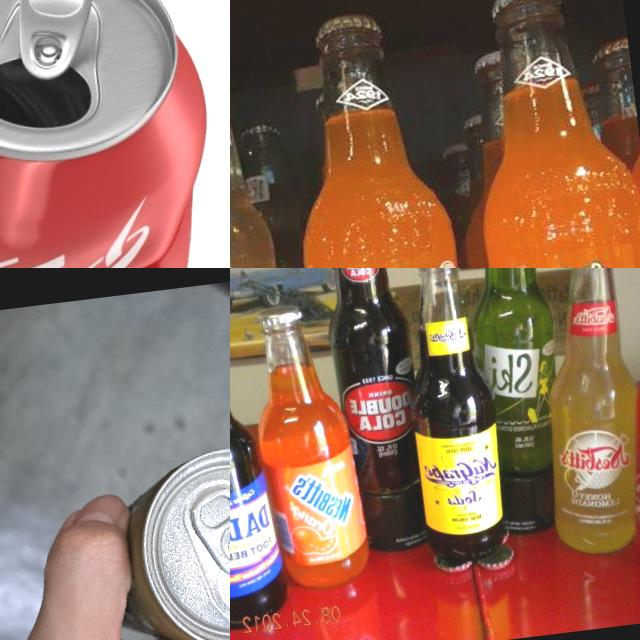aba de lata: (9, 0, 99, 81), (190, 487, 230, 585)
garrafa de vidro: (276, 4, 479, 268), (456, 0, 640, 268), (240, 296, 371, 594), (394, 268, 513, 575), (444, 268, 579, 538), (312, 268, 436, 557), (517, 268, 640, 559), (230, 284, 291, 637), (230, 31, 299, 268), (599, 268, 640, 578)
lata: (0, 0, 230, 268), (118, 435, 230, 640)
